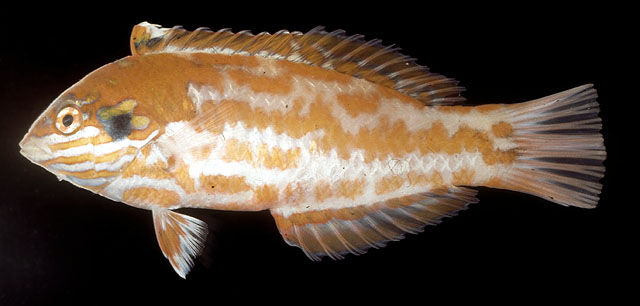fish: (15, 22, 606, 280)
